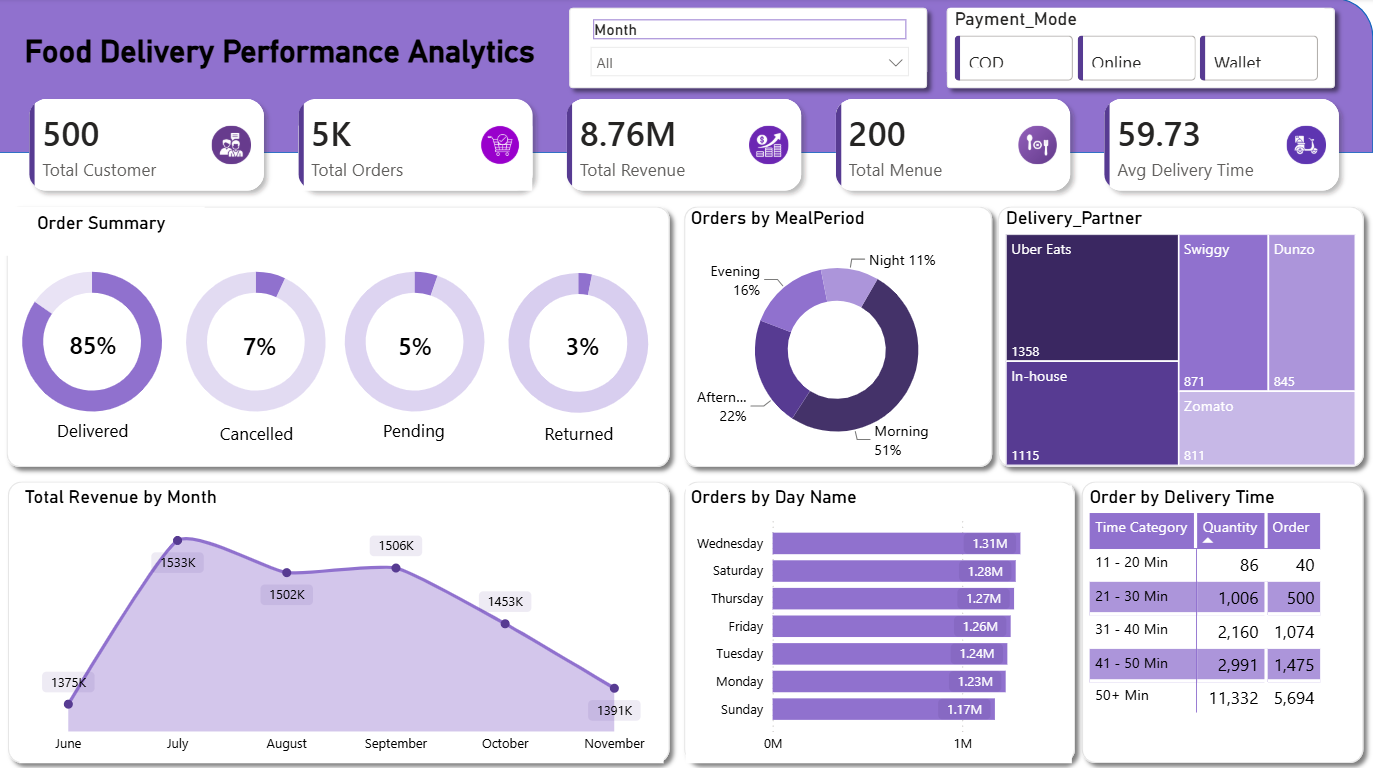

This screenshot's page, from the dashboard's own definition file:
{"tool":"powerbi","page":{"name":"Page 1","canvas":[1280,720],"ordinal":0},"visuals":[{"type":"shape","box":[0,0,1280.3,144.3],"z":0},{"type":"shape","box":[0,184.6,634.7,260.5],"z":1000},{"type":"shape","box":[629.8,184.6,304.5,260.5],"z":2000},{"type":"shape","box":[1000.3,440.2,280,280],"z":3000},{"type":"shape","box":[629.8,440.2,381.5,280],"z":4000},{"type":"shape","box":[922,184.6,358.3,260.5],"z":5000},{"type":"shape","box":[1.2,440.2,633.4,280],"z":6000},{"type":"cardVisual","fields":{"Data":["1_Measures.Total Customer","1_Measures.Total Orders","1_Measures.Total Revenue","1_Measures.Total Menue","1_Measures.Avg Delivery Time"]},"box":[1.2,64.8,1279.1,143.1],"z":7000},{"type":"donutChart","fields":{"Y":["1_Measures.Delivered","1_Measures.Other(Deliverd)"]},"box":[0,233.6,177.3,172.4],"z":8000},{"type":"donutChart","fields":{"Y":["1_Measures.Cancelled","1_Measures.Other(Cancelled)"]},"box":[152.9,233.6,177.3,172.4],"z":9000},{"type":"donutChart","fields":{"Y":["1_Measures.Pending","1_Measures.Other(Pending)"]},"box":[299.6,233.6,177.3,172.4],"z":10000},{"type":"donutChart","fields":{"Y":["1_Measures.Returned","1_Measures.Other(Returned)"]},"box":[452.4,234.8,177.3,172.4],"z":11000},{"type":"textbox","box":[37.9,386.4,101.5,40.4],"z":12000},{"type":"textbox","box":[490.4,388.9,101.5,40.4],"z":13000},{"type":"textbox","box":[337.5,386.4,101.5,40.4],"z":14000},{"type":"textbox","box":[190.8,388.9,101.5,40.4],"z":15000},{"type":"cardVisual","fields":{"Data":["1_Measures.% Delivered"]},"box":[37.9,273.9,108.8,92.9],"z":16000},{"type":"cardVisual","fields":{"Data":["1_Measures.% Pending"]},"box":[343.6,275.1,108.8,92.9],"z":17000},{"type":"cardVisual","fields":{"Data":["1_Measures.% Cancelled"]},"box":[200.5,275.1,108.8,92.9],"z":18000},{"type":"cardVisual","fields":{"Data":["1_Measures.% Returned"]},"box":[500.1,275.1,108.8,92.9],"z":19000},{"type":"textbox","box":[1.2,194.4,192,45.2],"z":20000},{"type":"areaChart","fields":{"Category":["Orders.Order_Date.Variation.Date Hierarchy.Month"],"Y":["1_Measures.Total Revenue"]},"box":[20.8,453.7,599.2,258],"z":21000},{"type":"donutChart","title":"Orders by MealPeriod","fields":{"Category":["Orders.MealPeriod"],"Y":["1_Measures.Total Orders"]},"box":[640.8,194.4,281.3,245.8],"z":22000},{"type":"treemap","title":"Delivery_Partner","fields":{"Group":["Orders.Delivery_Partner"],"Values":["1_Measures.Total Orders"]},"box":[934.2,194.4,335.1,245.8],"z":23000},{"type":"clusteredBarChart","title":"Orders by Day Name","fields":{"Category":["Orders.Day Name"],"Y":["1_Measures.Total Revenue"]},"box":[640.8,453.7,359.5,258],"z":24000},{"type":"pivotTable","title":"Order by Delivery Time","fields":{"Rows":["Orders.Time Category"],"Values":["Sum(Order_Items.Quantity)","CountNonNull(Order_Items.Order_ID)"]},"box":[1011.3,453.7,258,258],"z":25000},{"type":"textbox","box":[20.8,28.1,511.1,73.4],"z":26000},{"type":"shape","box":[523.4,0,351,92.9],"z":27000},{"type":"shape","box":[874.3,0,379.1,92.9],"z":27125},{"type":"advancedSlicerVisual","fields":{"Values":["Orders.Payment_Mode"]},"box":[886.6,9.8,348.5,73.4],"z":27250},{"type":"slicer","fields":{"Values":["Orders.Order_Date.Variation.Date Hierarchy.Month"]},"box":[541.7,14.7,316.7,64.8],"z":29000}]}

Visuals, with their boxes in screenshot pixels (x1, y1, x2, y2), scaled from the page's 1280x720 canvas onto the 1373x768 screenshot:
shape: [x1=0, y1=0, x2=1372, y2=154]
shape: [x1=0, y1=197, x2=681, y2=475]
shape: [x1=676, y1=197, x2=1002, y2=475]
shape: [x1=1073, y1=470, x2=1372, y2=767]
shape: [x1=676, y1=470, x2=1085, y2=767]
shape: [x1=989, y1=197, x2=1372, y2=475]
shape: [x1=1, y1=470, x2=681, y2=767]
cardVisual - 1_Measures.Total Customer x 1_Measures.Total Orders: [x1=1, y1=69, x2=1372, y2=222]
donutChart - 1_Measures.Delivered x 1_Measures.Other(Deliverd): [x1=0, y1=249, x2=190, y2=433]
donutChart - 1_Measures.Cancelled x 1_Measures.Other(Cancelled): [x1=164, y1=249, x2=354, y2=433]
donutChart - 1_Measures.Pending x 1_Measures.Other(Pending): [x1=321, y1=249, x2=512, y2=433]
donutChart - 1_Measures.Returned x 1_Measures.Other(Returned): [x1=485, y1=250, x2=675, y2=434]
textbox: [x1=41, y1=412, x2=150, y2=455]
textbox: [x1=526, y1=415, x2=635, y2=458]
textbox: [x1=362, y1=412, x2=471, y2=455]
textbox: [x1=205, y1=415, x2=314, y2=458]
cardVisual - 1_Measures.% Delivered: [x1=41, y1=292, x2=157, y2=391]
cardVisual - 1_Measures.% Pending: [x1=369, y1=293, x2=485, y2=393]
cardVisual - 1_Measures.% Cancelled: [x1=215, y1=293, x2=332, y2=393]
cardVisual - 1_Measures.% Returned: [x1=536, y1=293, x2=653, y2=393]
textbox: [x1=1, y1=207, x2=207, y2=256]
areaChart - Orders.Order_Date.Variation.Date Hierarchy.Month x 1_Measures.Total Revenue: [x1=22, y1=484, x2=665, y2=759]
"Orders by MealPeriod" donutChart: [x1=687, y1=207, x2=989, y2=470]
"Delivery_Partner" treemap: [x1=1002, y1=207, x2=1362, y2=470]
"Orders by Day Name" clusteredBarChart: [x1=687, y1=484, x2=1073, y2=759]
"Order by Delivery Time" pivotTable: [x1=1085, y1=484, x2=1362, y2=759]
textbox: [x1=22, y1=30, x2=571, y2=108]
shape: [x1=561, y1=0, x2=938, y2=99]
shape: [x1=938, y1=0, x2=1344, y2=99]
advancedSlicerVisual - Orders.Payment_Mode: [x1=951, y1=10, x2=1325, y2=89]
slicer - Orders.Order_Date.Variation.Date Hierarchy.Month: [x1=581, y1=16, x2=921, y2=85]
